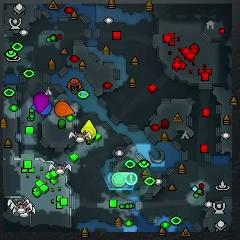p1: (31, 101, 52, 115)
p2: (111, 172, 131, 187)
p3: (34, 93, 48, 113)
p4: (81, 120, 97, 140)
p5: (55, 102, 74, 117)
